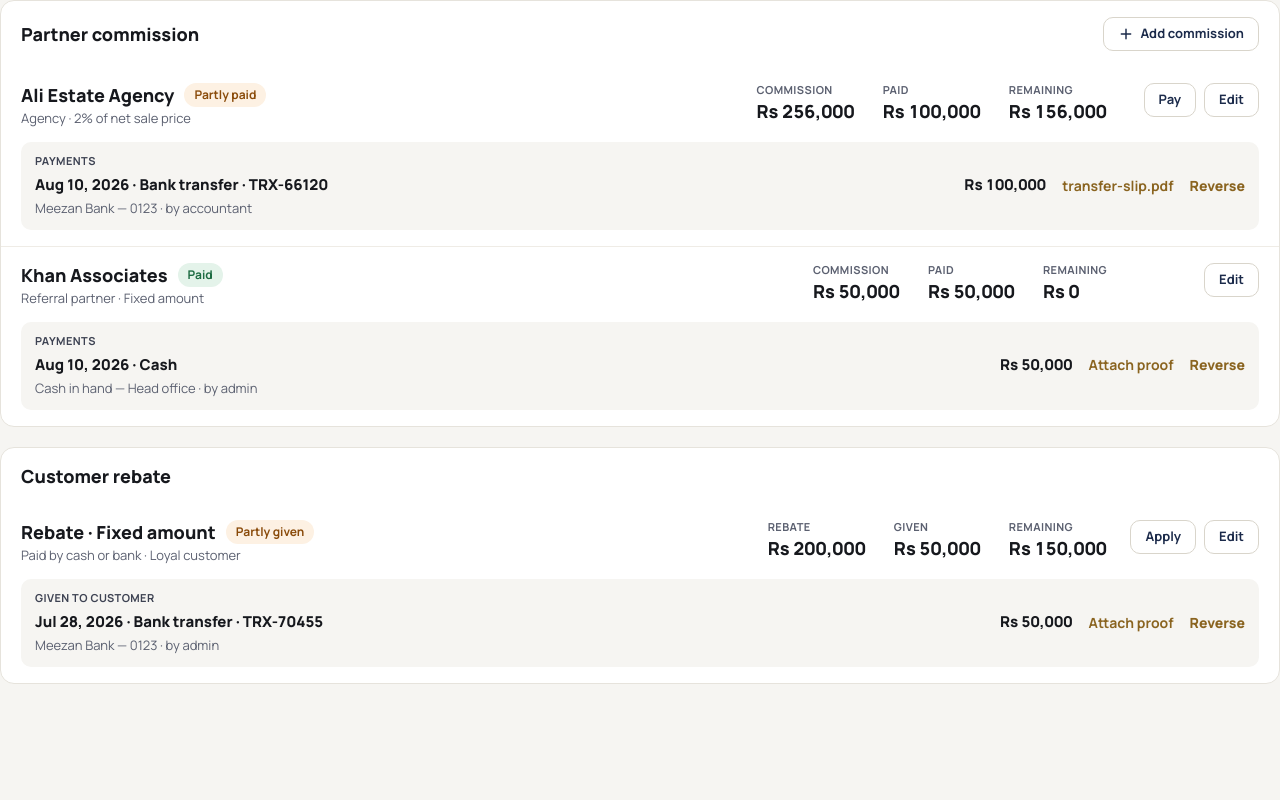
Test case: Commission & rebate tab › edits a commission that already has a payment, without offering to cancel it
This screenshot has width=1280, height=800.
Expected: the heading "Ali Estate Agency" is shown, [21,83,174,107]
Click the button "Edit" in the row of "Rs 156,000" at (1232, 100), box [1204,83,1259,117]
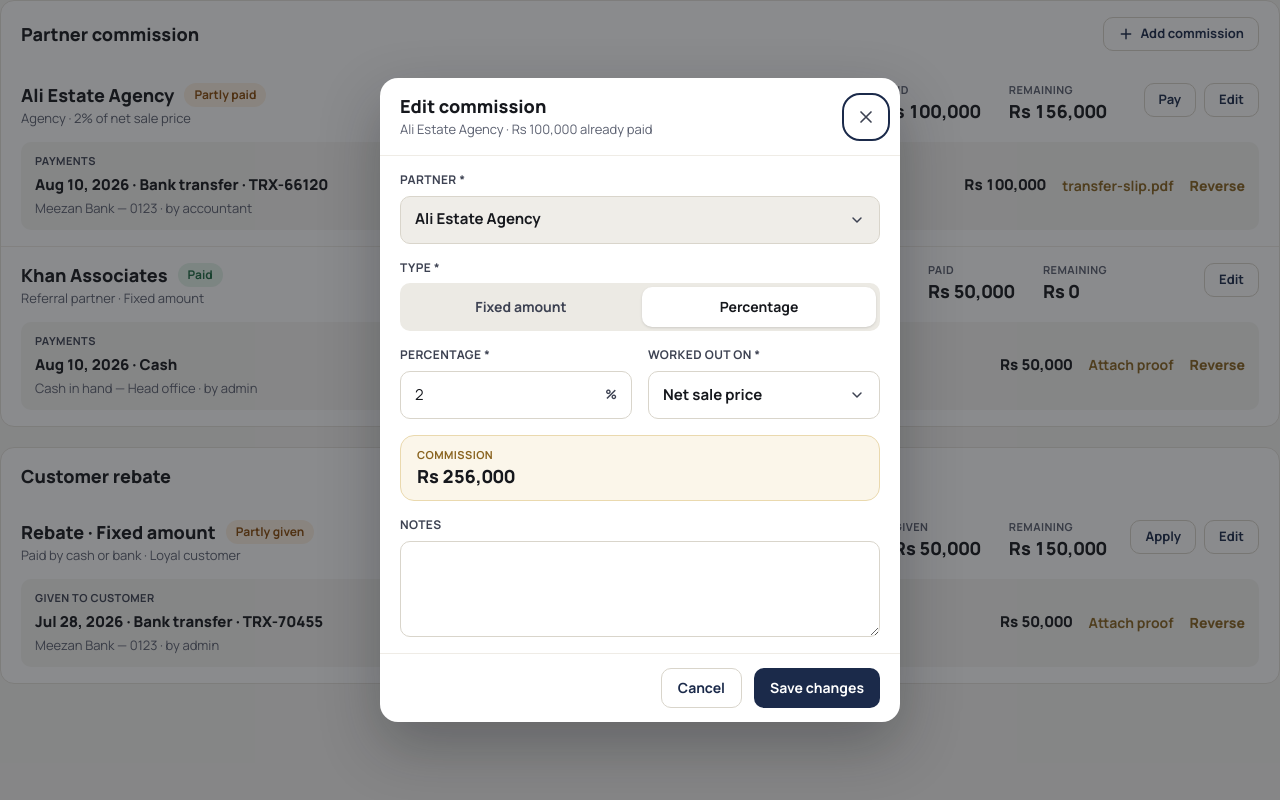
Now the text "Ali Estate Agency · Rs 100,000 already paid" is shown, box [400,120,652,139]
A total below what is paid is refused before anything is sent.
Replace the text in the field labelled "Percentage *" with "0.5" at (506, 395), box [415,372,597,418]
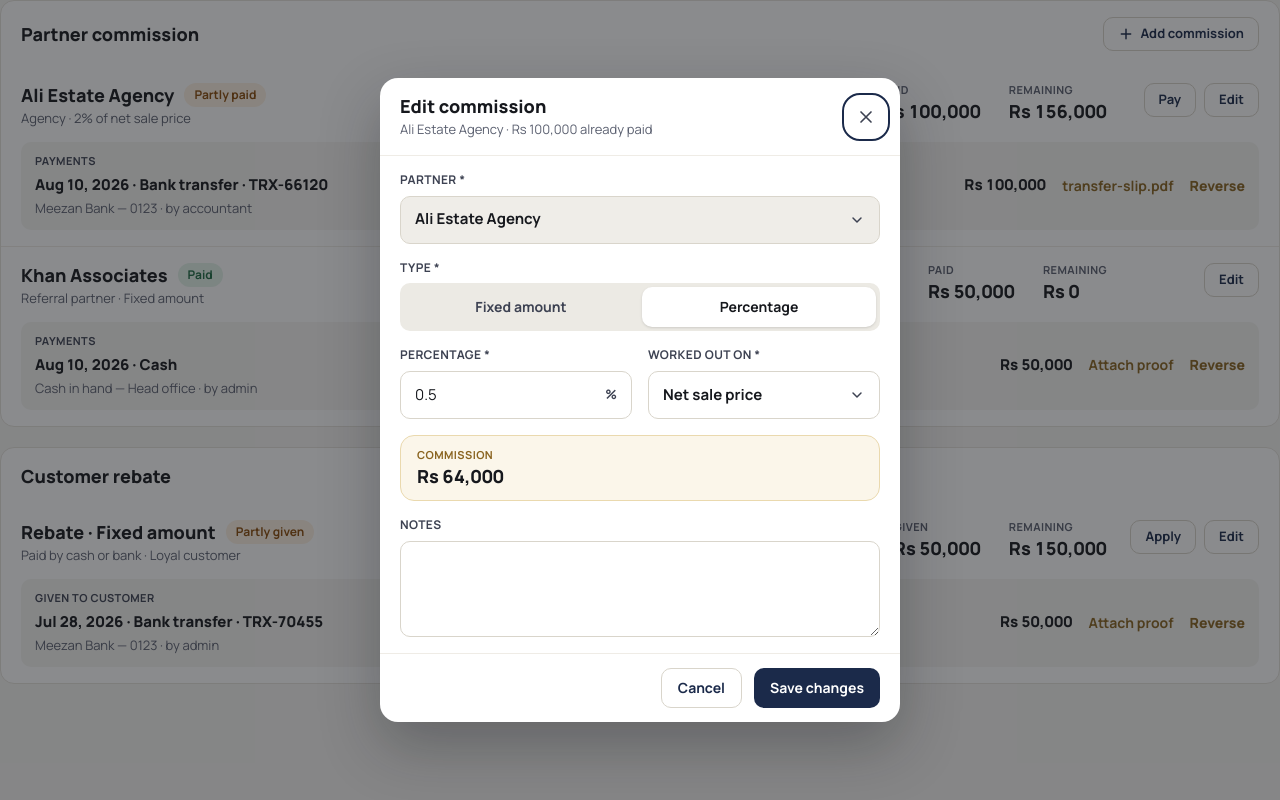
Click the button "Save changes" at (817, 688), box [754,668,880,708]
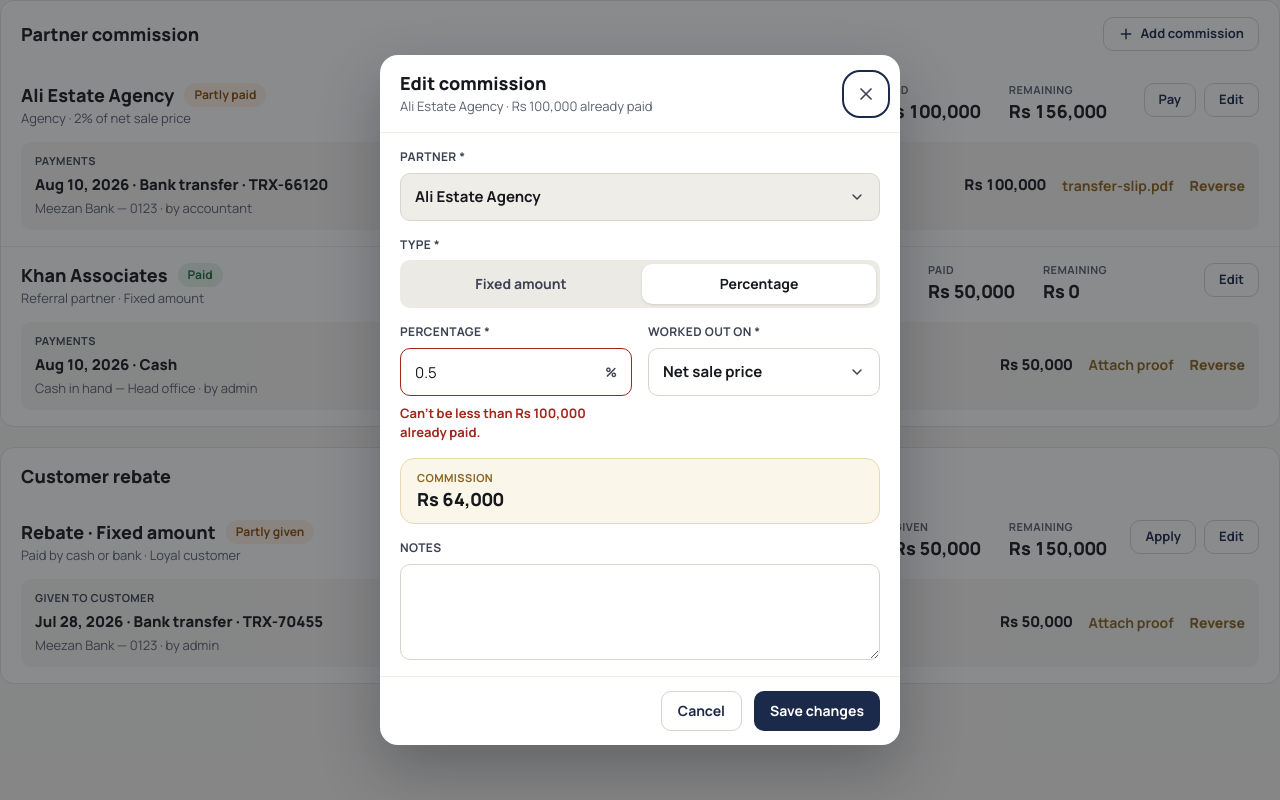
Now the text "Can't be less than Rs 100,000 already paid." is shown, box [400,404,586,441]
